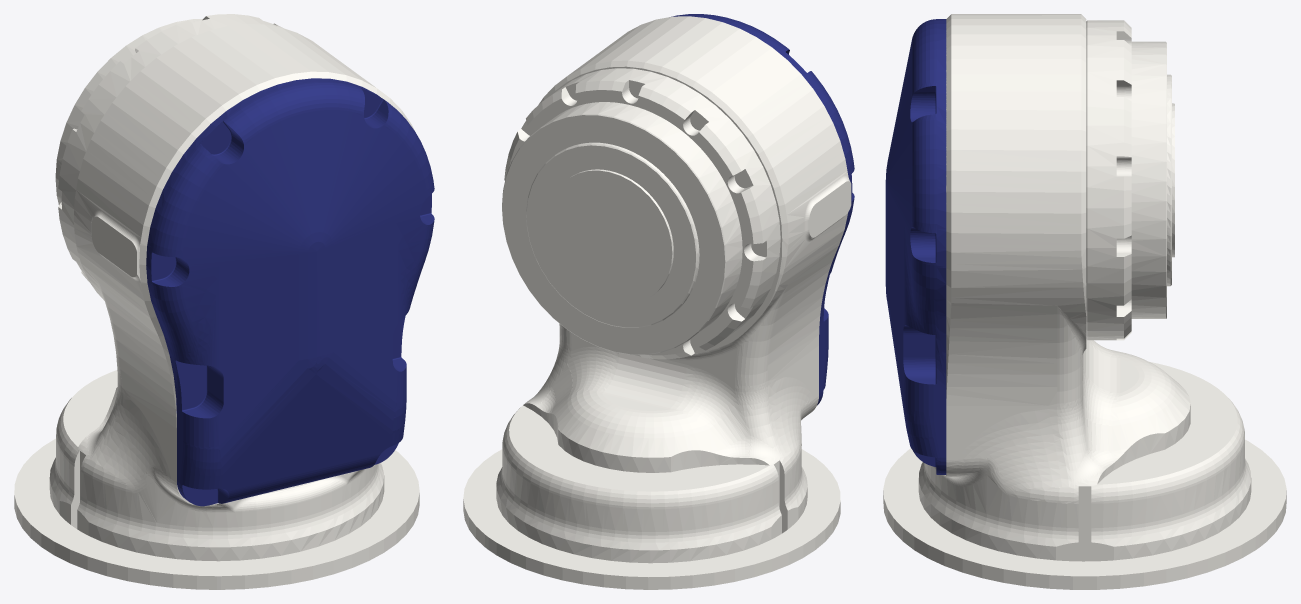
3 views of the same model, side by side, from view 1: azimuth 30°, elevation 25°; view 2: azimuth 150°, elevation 25°; view 3: azimuth 270°, elevation 25° (orthographic). The views are drawn at different scales.
Parts seen in each view (by area): view 1: link_r_s; view 2: link_r_s; view 3: link_r_s.
Boxes of the visible parts, x1,y1,x2,y2 form: link_r_s: [14, 14, 434, 589]; link_r_s: [463, 14, 854, 589]; link_r_s: [883, 14, 1286, 589].
Bounding box in the file's own units: 0.1599 × 0.1599 × 0.2079.
Materials: 1 (1 with a texture image).
